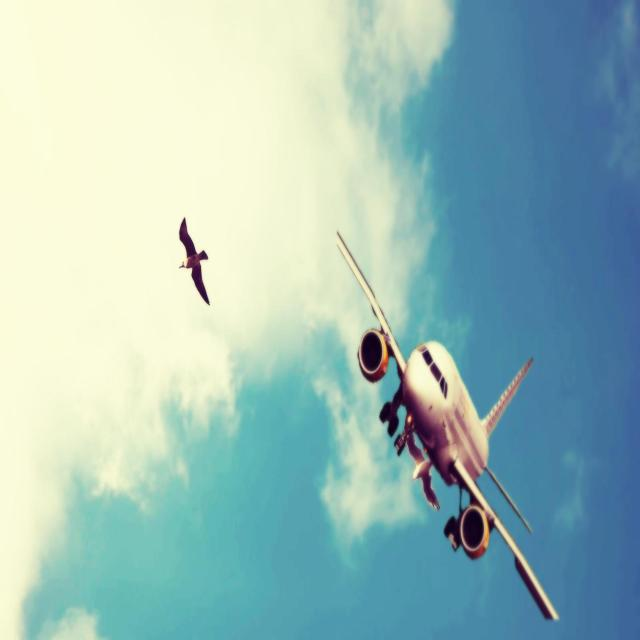airplane: (335, 228, 559, 621)
